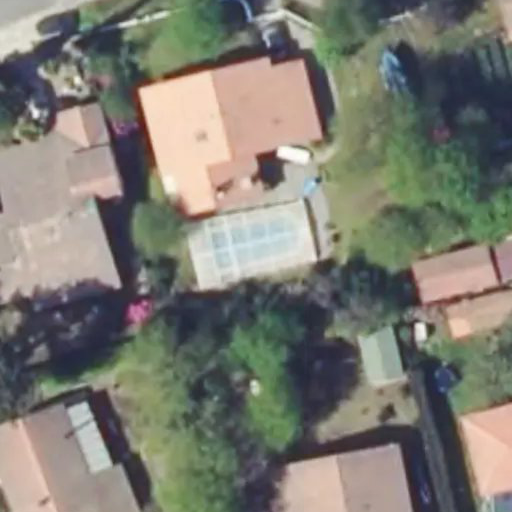pool: (210, 233, 301, 249)
